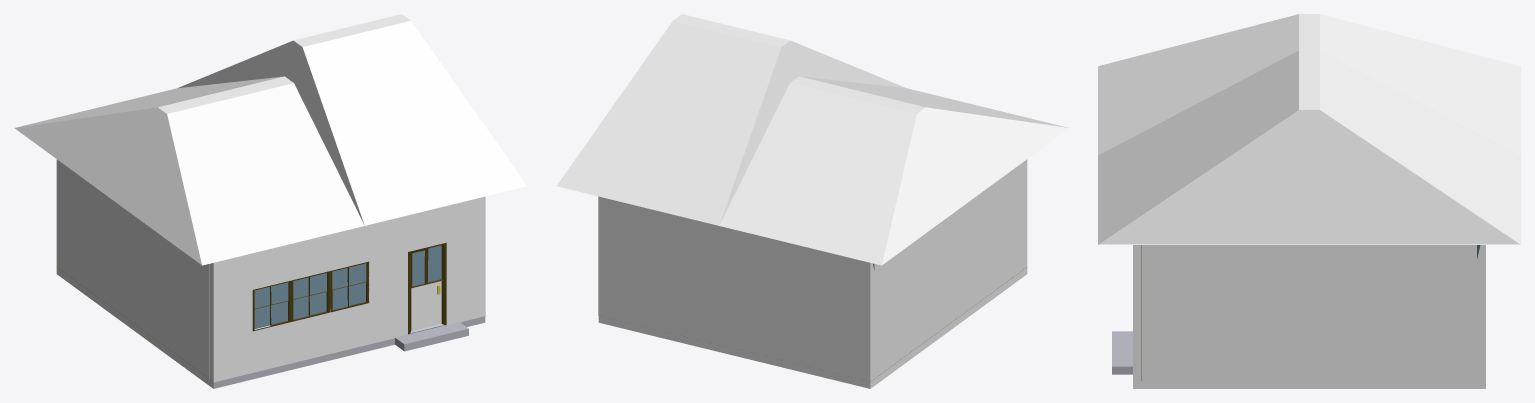
File: House.fbx
3 renders of one model, left to right at view 1: azimuth 30°, elevation 25°; view 2: azimuth 150°, elevation 25°; view 3: azimuth 270°, elevation 25°, orthographic. The views are drawn at different scales.
Parts seen in each view (by area): view 1: House; view 2: House; view 3: House.
Part boxes in pixels (x1=…): House: x1=14, y1=14, x2=527, y2=388; House: x1=556, y1=14, x2=1069, y2=388; House: x1=1098, y1=14, x2=1520, y2=388.
Size of the model in its own units: 9.58 by 6.97 by 9.58.
